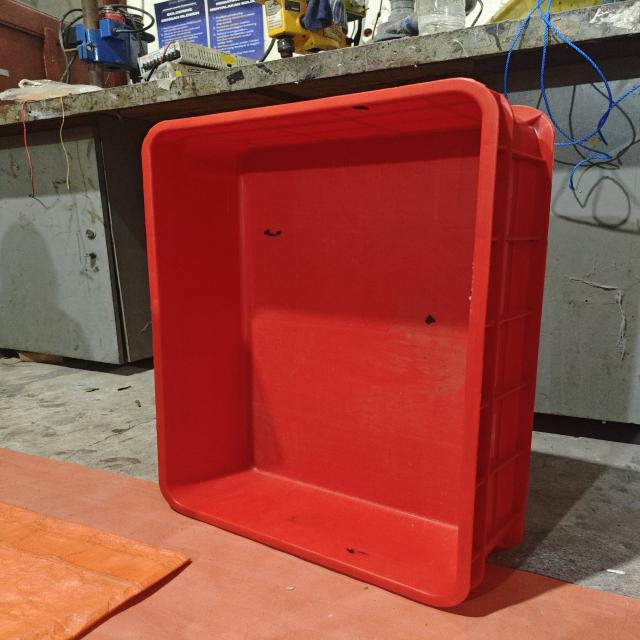red plastic box: (141, 78, 555, 607)
